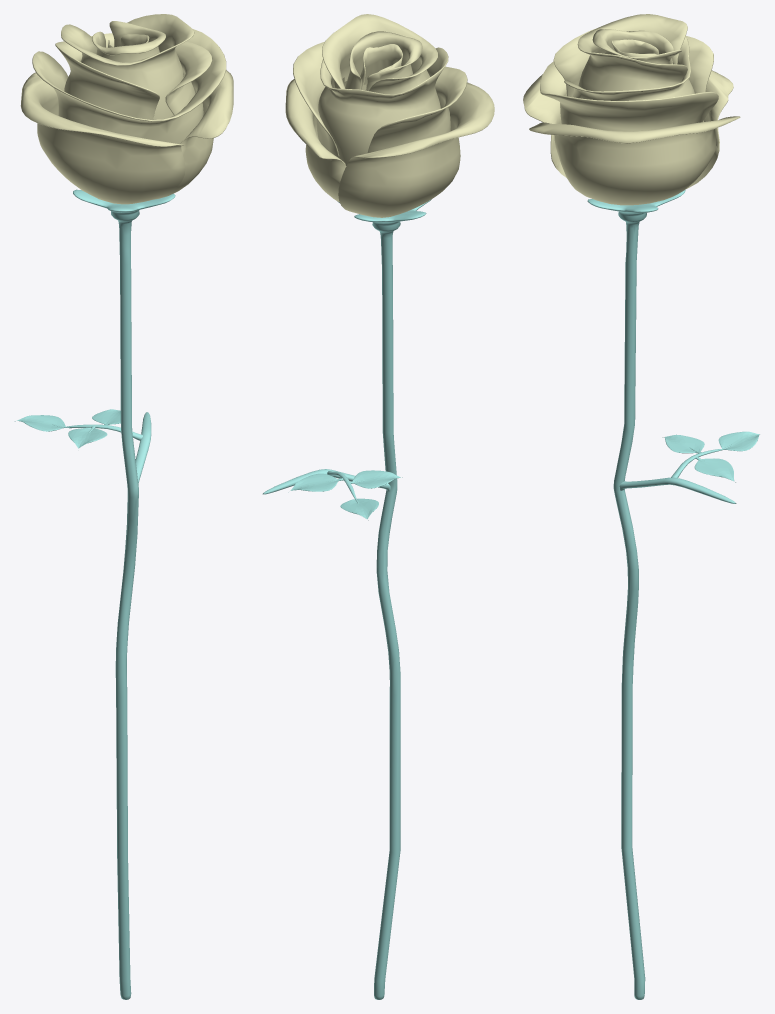
File: SMMALLROSE.JOINblend.glb
3 views of the same model, side by side, from view 1: azimuth 30°, elevation 25°; view 2: azimuth 150°, elevation 25°; view 3: azimuth 270°, elevation 25° (orthographic). The views are drawn at different scales.
Visible parts, largest first — view 1: Plane.008, Cylinder; view 2: Plane.008, Cylinder; view 3: Plane.008, Cylinder.
Boxes of the visible parts, bbox=[...] form: Plane.008: bbox=[20, 14, 233, 204]; Cylinder: bbox=[14, 189, 175, 999]; Plane.008: bbox=[285, 14, 494, 217]; Cylinder: bbox=[262, 199, 431, 999]; Plane.008: bbox=[523, 14, 740, 205]; Cylinder: bbox=[587, 189, 759, 999].
Bounding box in the file's own units: 1.85 × 8.71 × 1.94.
